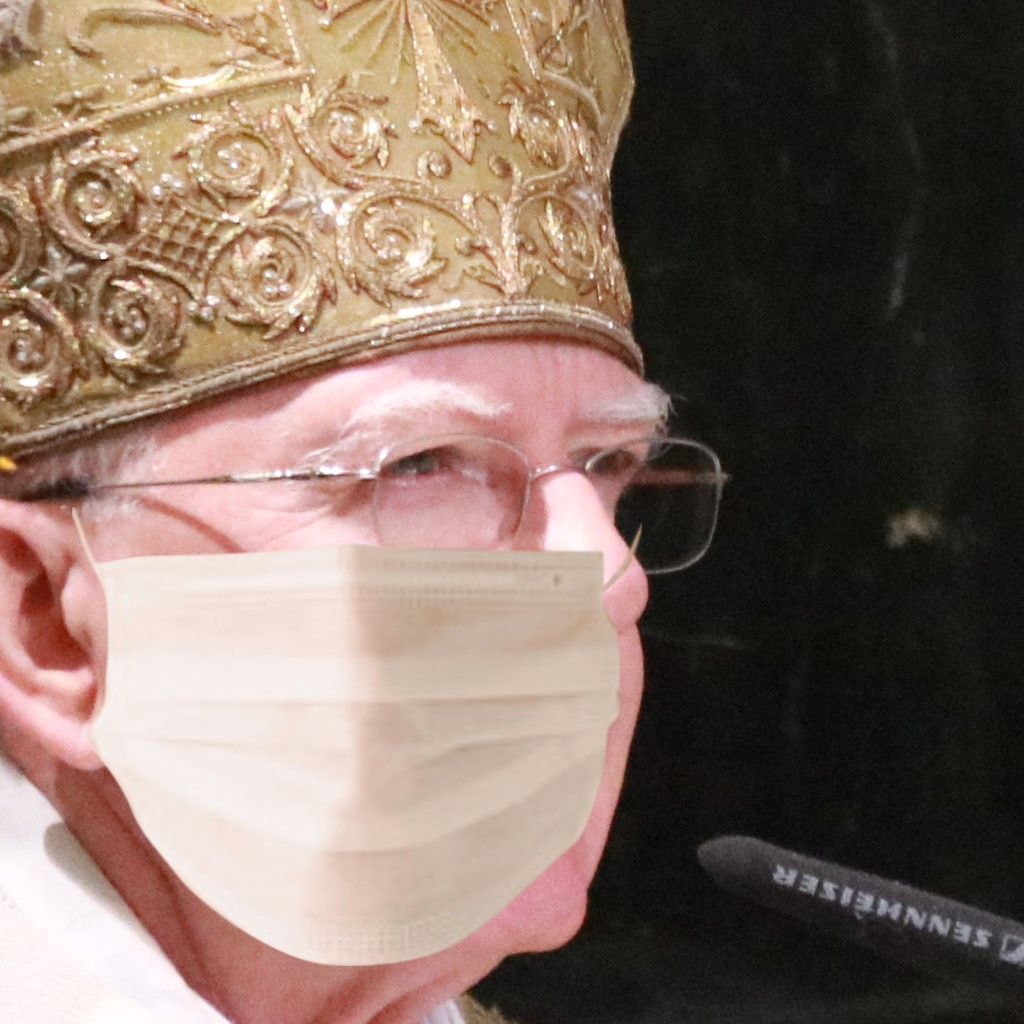con_mascara: (76, 246, 662, 992)
